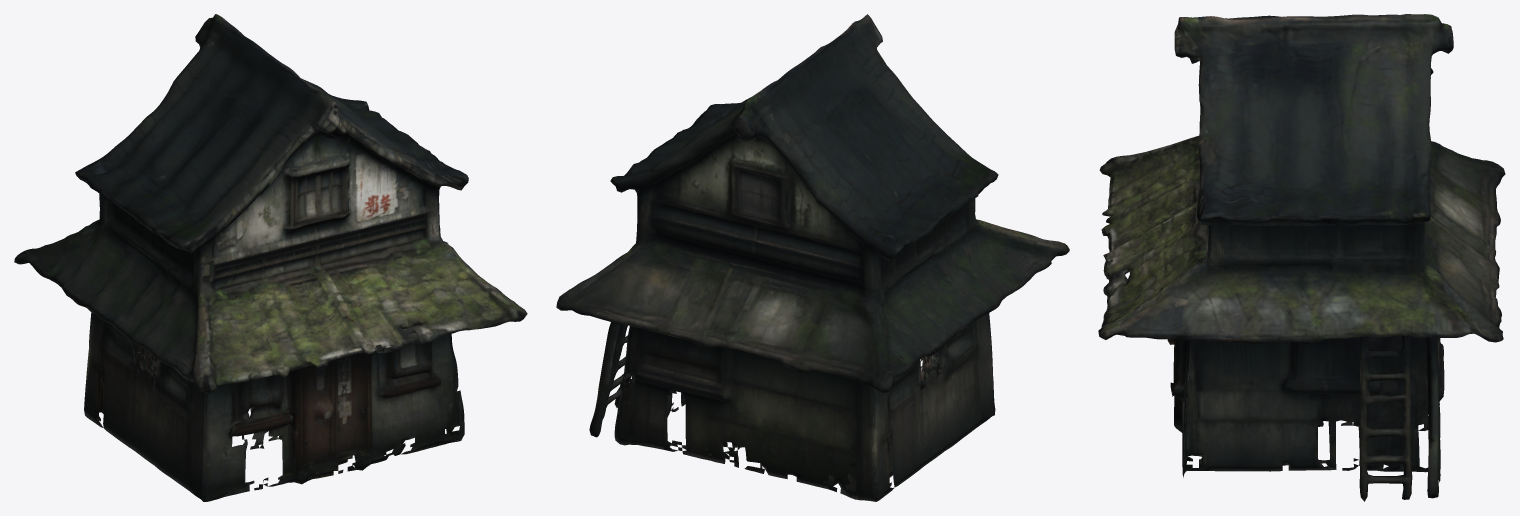
Rendered from Japanese_Cottage_A_da_0424102045_texture.fbx.
3 renders of one model, left to right at view 1: azimuth 30°, elevation 25°; view 2: azimuth 150°, elevation 25°; view 3: azimuth 270°, elevation 25°, orthographic. The views are drawn at different scales.
Visible parts, largest first — view 1: Mesh1; view 2: Mesh1; view 3: Mesh1.
Boxes of the visible parts, <box> form: Mesh1: <box>14,14,527,501</box>; Mesh1: <box>556,14,1069,501</box>; Mesh1: <box>1098,14,1505,501</box>.
Size of the model in its own units: 189 by 200 by 183.
1 material, 1 textured.
